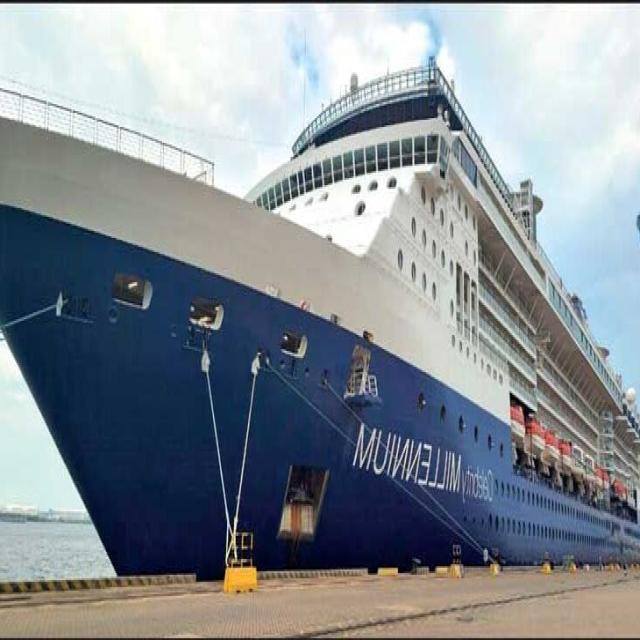PassengerShip: (0, 53, 619, 571)
